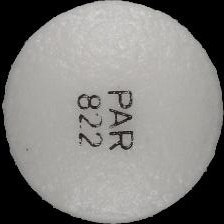54868-4263: (0, 0, 224, 224)
